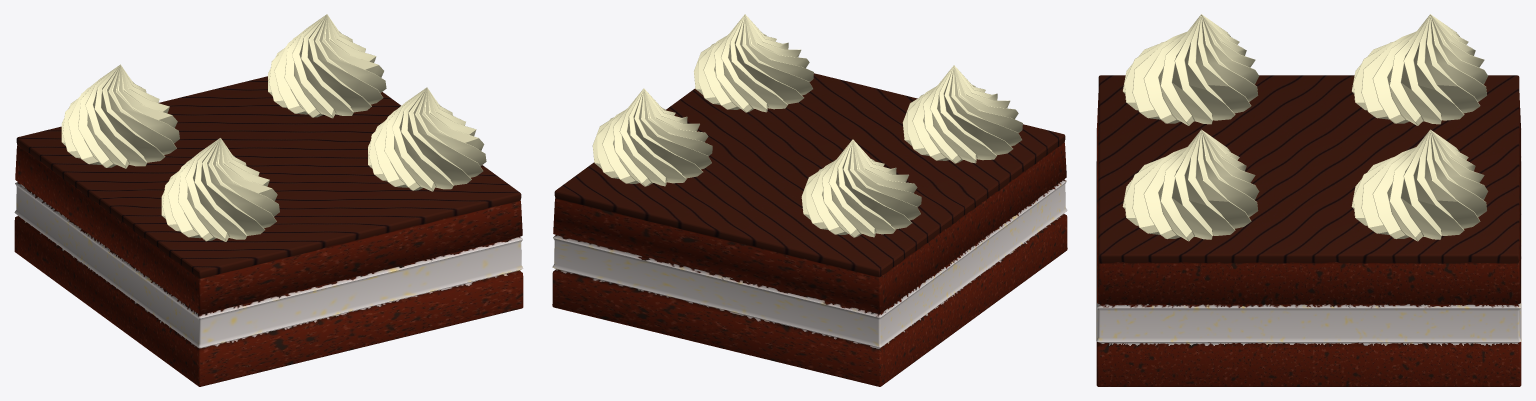
Rendered from Cake.fbx.
3 views of the same model, side by side, from view 1: azimuth 30°, elevation 25°; view 2: azimuth 150°, elevation 25°; view 3: azimuth 270°, elevation 25° (orthographic). The views are drawn at different scales.
Visible parts, largest first — view 1: polySurface2; view 2: polySurface2; view 3: polySurface2.
Part boxes in pixels (<box>): polySurface2: <box>14,14,523,386</box>; polySurface2: <box>552,14,1067,386</box>; polySurface2: <box>1096,14,1521,386</box>.
Size of the model in its own units: 2.03 by 1.2 by 2.01.
